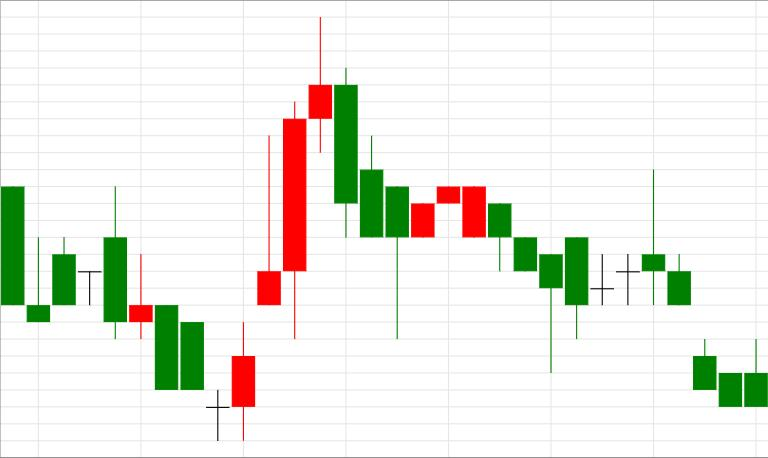hammer_rise: (334, 67, 562, 372)
